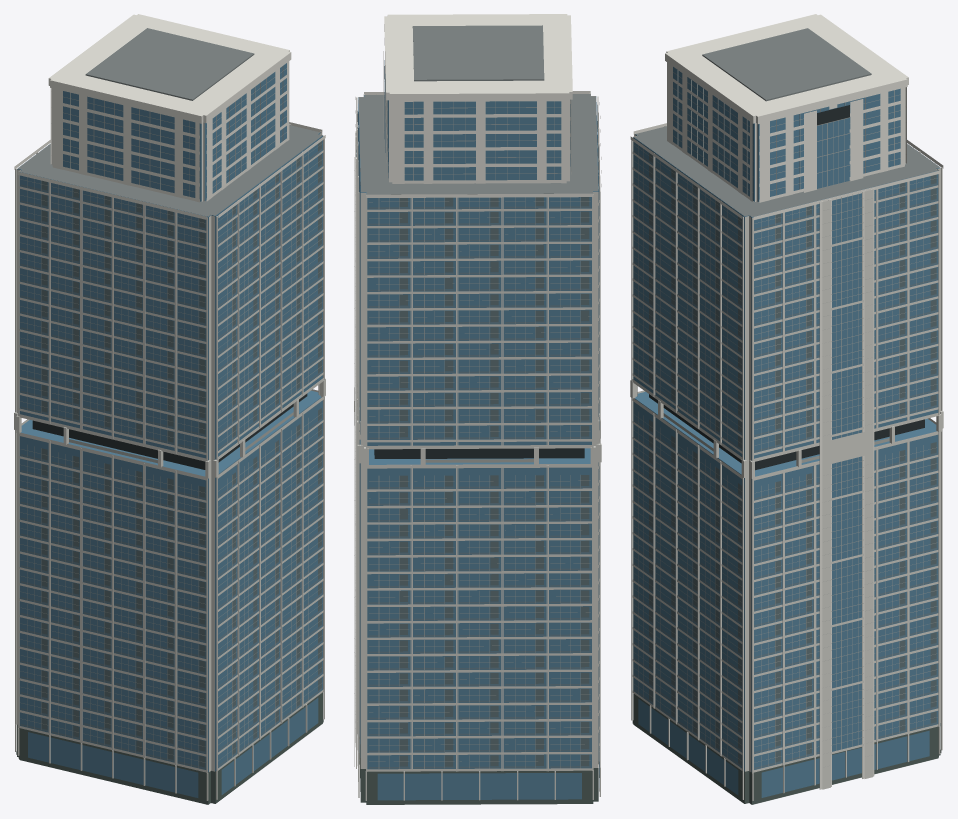
Rendered from bespoke-tower-palace-d.glb.
The picture shows the model from 3 angles, left to right: view 1: azimuth 30°, elevation 25°; view 2: azimuth 150°, elevation 25°; view 3: azimuth 270°, elevation 25°; orthographic projection. The views are drawn at different scales.
Visible parts, largest first — view 1: D_03_individual_bank_glazing_1, D_02_pale_horizontal_bands, D_01_rectangular_bank_massing_1, D_04_paired_column_axes_1, D_03_individual_bank_glazing_3, D_03_individual_bank_glazing_4, D_03_individual_bank_glazing_2, D_07_flat_cornice_and_roof_2, D_06_occupied_setback_penthouse_1, D_07_flat_cornice_and_roof_1, D_06_occupied_setback_penthouse_4, D_01_rectangular_bank_massing_3 (+3 smaller); view 2: D_03_individual_bank_glazing_1, D_01_rectangular_bank_massing_1, D_02_pale_horizontal_bands, D_04_paired_column_axes_1, D_03_individual_bank_glazing_3, D_03_individual_bank_glazing_4, D_07_flat_cornice_and_roof_2, D_03_individual_bank_glazing_2, D_07_flat_cornice_and_roof_1, D_06_occupied_setback_penthouse_1, D_06_occupied_setback_penthouse_4, D_01_rectangular_bank_massing_3 (+4 smaller); view 3: D_03_individual_bank_glazing_1, D_04_paired_column_axes_1, D_02_pale_horizontal_bands, D_01_rectangular_bank_massing_1, D_03_individual_bank_glazing_2, D_03_individual_bank_glazing_3, D_03_individual_bank_glazing_4, D_07_flat_cornice_and_roof_2, D_06_occupied_setback_penthouse_1, D_07_flat_cornice_and_roof_1, D_06_occupied_setback_penthouse_4, D_04_paired_column_axes_3 (+4 smaller).
Part boxes in pixels (x1,y1,x2,y2): D_03_individual_bank_glazing_1: (18, 137, 322, 797); D_02_pale_horizontal_bands: (19, 150, 323, 772); D_01_rectangular_bank_massing_1: (17, 132, 322, 771); D_04_paired_column_axes_1: (15, 124, 324, 800); D_03_individual_bank_glazing_3: (41, 141, 321, 767); D_03_individual_bank_glazing_4: (20, 149, 322, 769); D_03_individual_bank_glazing_2: (20, 144, 322, 767); D_07_flat_cornice_and_roof_2: (17, 28, 322, 216); D_06_occupied_setback_penthouse_1: (63, 63, 286, 201); D_07_flat_cornice_and_roof_1: (14, 14, 325, 219); D_06_occupied_setback_penthouse_4: (50, 61, 289, 202); D_01_rectangular_bank_massing_3: (16, 692, 323, 804); D_03_individual_bank_glazing_1: (356, 105, 599, 800); D_01_rectangular_bank_massing_1: (358, 95, 598, 769); D_02_pale_horizontal_bands: (355, 112, 599, 771); D_04_paired_column_axes_1: (354, 93, 600, 800); D_03_individual_bank_glazing_3: (357, 111, 598, 766); D_03_individual_bank_glazing_4: (358, 132, 590, 768); D_07_flat_cornice_and_roof_2: (358, 25, 598, 194); D_03_individual_bank_glazing_2: (355, 197, 590, 768); D_07_flat_cornice_and_roof_1: (355, 14, 601, 197); D_06_occupied_setback_penthouse_1: (384, 60, 570, 180); D_06_occupied_setback_penthouse_4: (383, 51, 571, 183); D_01_rectangular_bank_massing_3: (359, 737, 599, 804); D_03_individual_bank_glazing_1: (634, 139, 937, 797); D_04_paired_column_axes_1: (631, 125, 942, 800); D_02_pale_horizontal_bands: (632, 152, 938, 772); D_01_rectangular_bank_massing_1: (633, 134, 940, 771); D_03_individual_bank_glazing_2: (634, 145, 937, 767); D_03_individual_bank_glazing_3: (649, 153, 936, 765); D_03_individual_bank_glazing_4: (634, 150, 937, 769); D_07_flat_cornice_and_roof_2: (634, 28, 939, 216); D_06_occupied_setback_penthouse_1: (673, 67, 900, 201); D_07_flat_cornice_and_roof_1: (630, 14, 943, 219); D_06_occupied_setback_penthouse_4: (667, 62, 906, 202); D_04_paired_column_axes_3: (819, 188, 874, 789).
Bounding box in the file's own units: 64.49 × 153 × 64.27.
